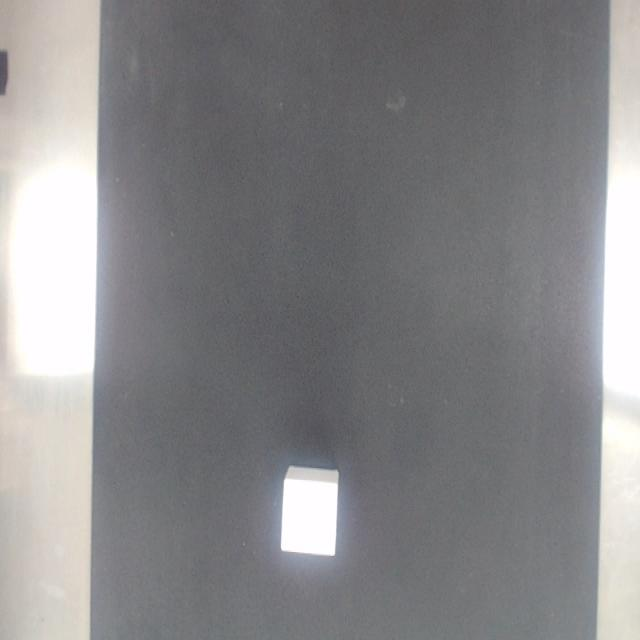Blanco: (280, 467, 338, 556)
